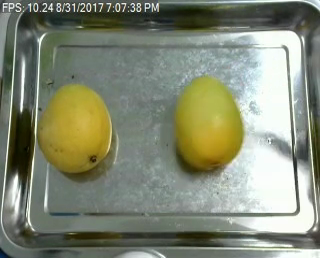Mango: (40, 83, 112, 172), (175, 78, 244, 168)
